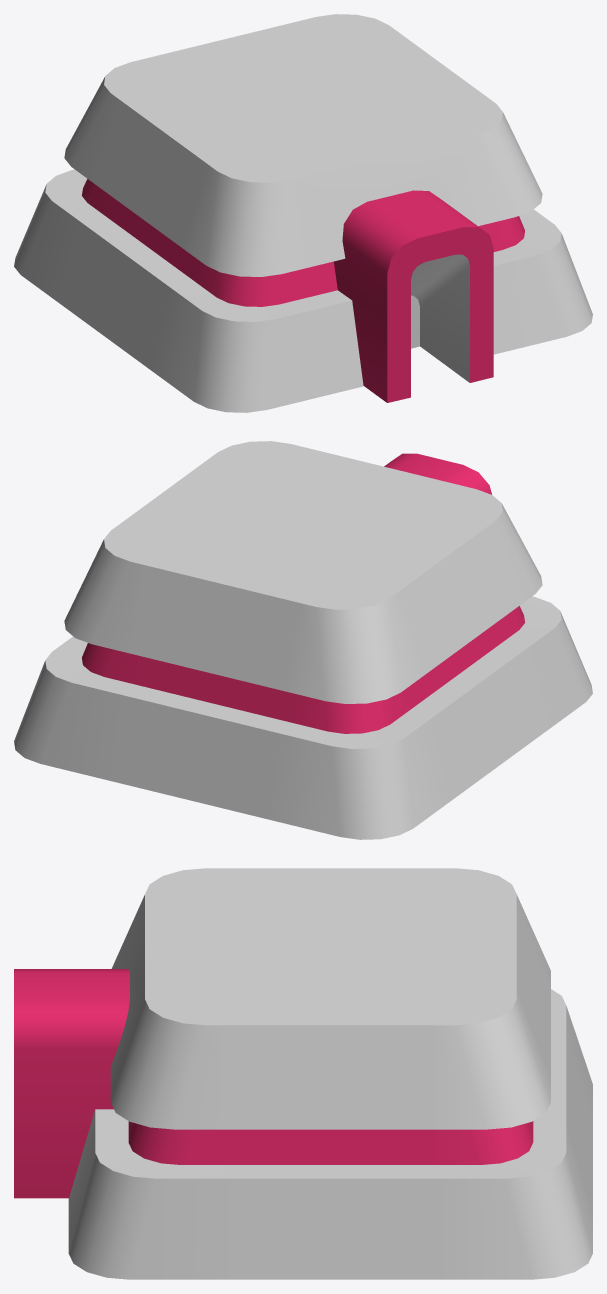
Rendered from Bunker.fbx.
3 renders of one model, top to bottom at view 1: azimuth 30°, elevation 25°; view 2: azimuth 150°, elevation 25°; view 3: azimuth 270°, elevation 25°, orthographic. The views are drawn at different scales.
Parts seen in each view (by area): view 1: Bunker; view 2: Bunker; view 3: Bunker.
Boxes of the visible parts, box(x1,y1,x2,y2) form: Bunker: box(14, 14, 592, 412); Bunker: box(14, 441, 592, 839); Bunker: box(14, 868, 592, 1279).
Bounding box in the file's own units: 692 × 323 × 764.
